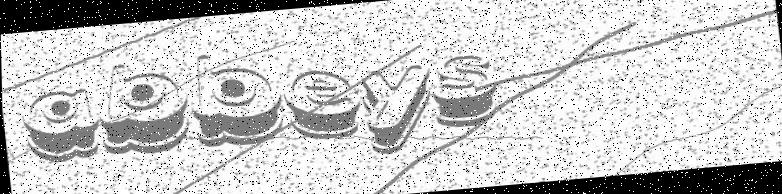a: (17, 86, 102, 165)
b: (186, 47, 287, 152), (93, 57, 195, 158)
e: (281, 65, 365, 144)
s: (428, 51, 501, 131)
y: (357, 61, 438, 157)
